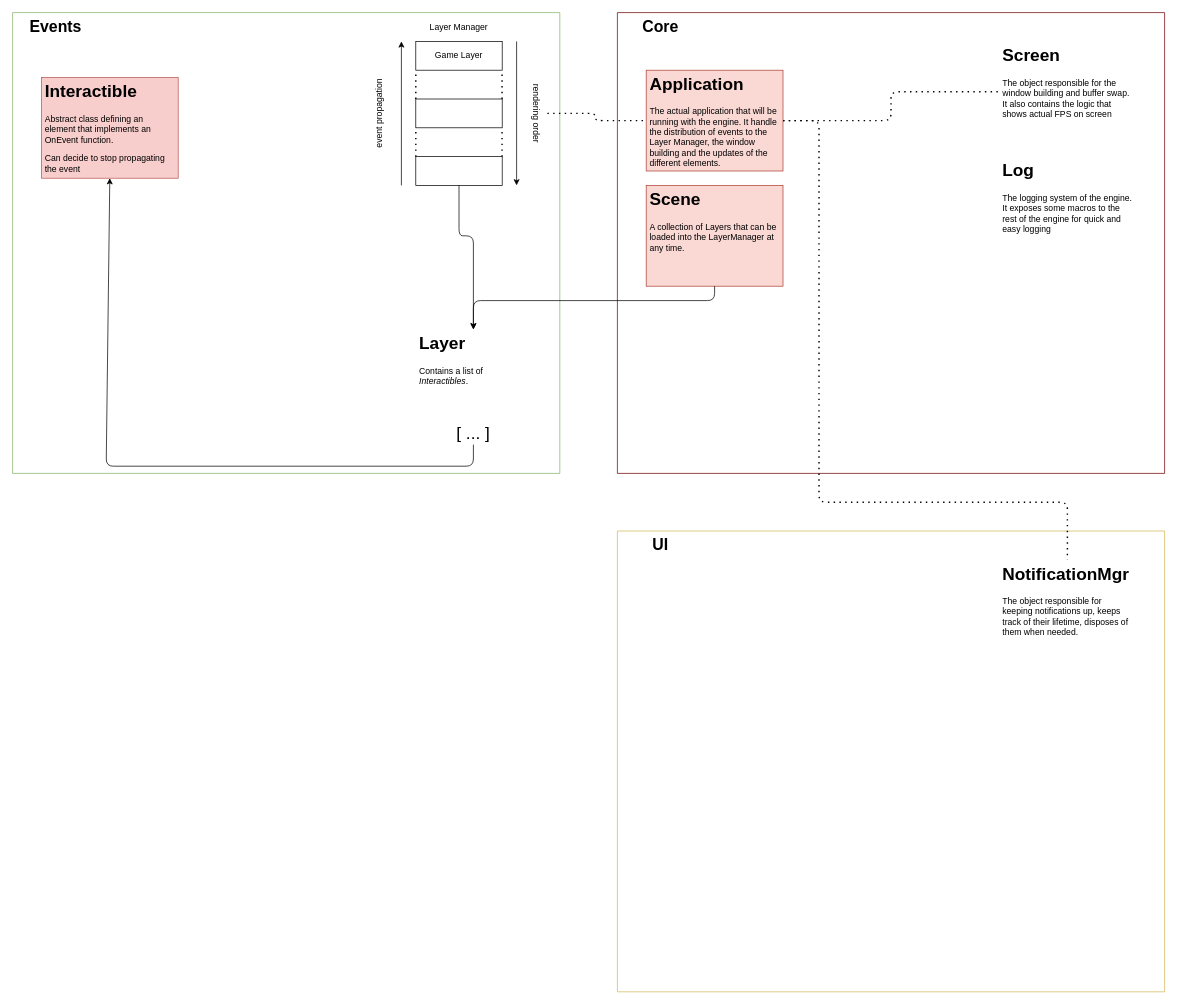
The diagram is 1178 pixels wide and 1005 high, and some of its shapes have lost their labels. Each missing label, with the box of its shape:
Debug Layer: (415, 156, 502, 185)
UI Layer: (415, 98, 502, 128)
